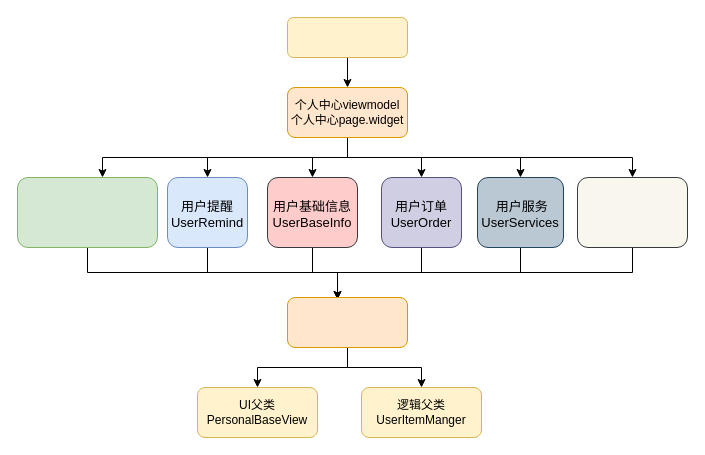
Image size: 705x455. Some labels were removed from this diagram. Each missing label, with the centre of its shape:
个人中心页面: point (347, 37)
父类 公共方法: point (347, 322)
用户公告 UserAnnouncement: point (87, 212)
用户收藏 UserWishGoods: point (632, 212)
